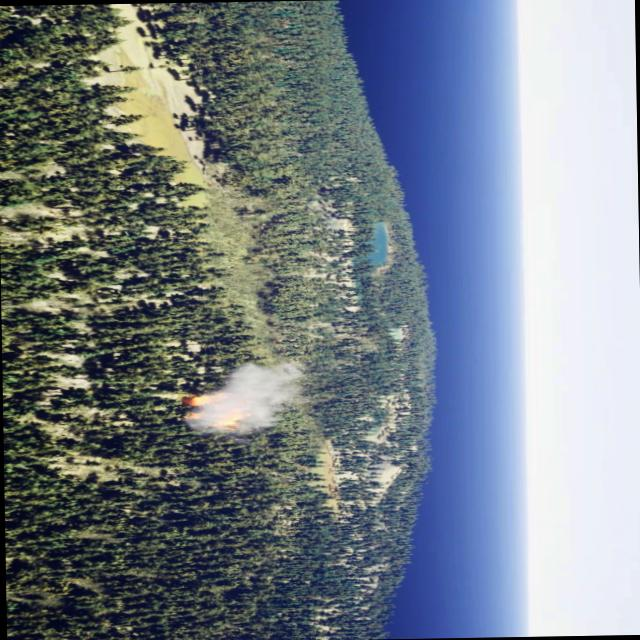fire: (186, 390, 242, 425)
smoke: (196, 357, 302, 428)
